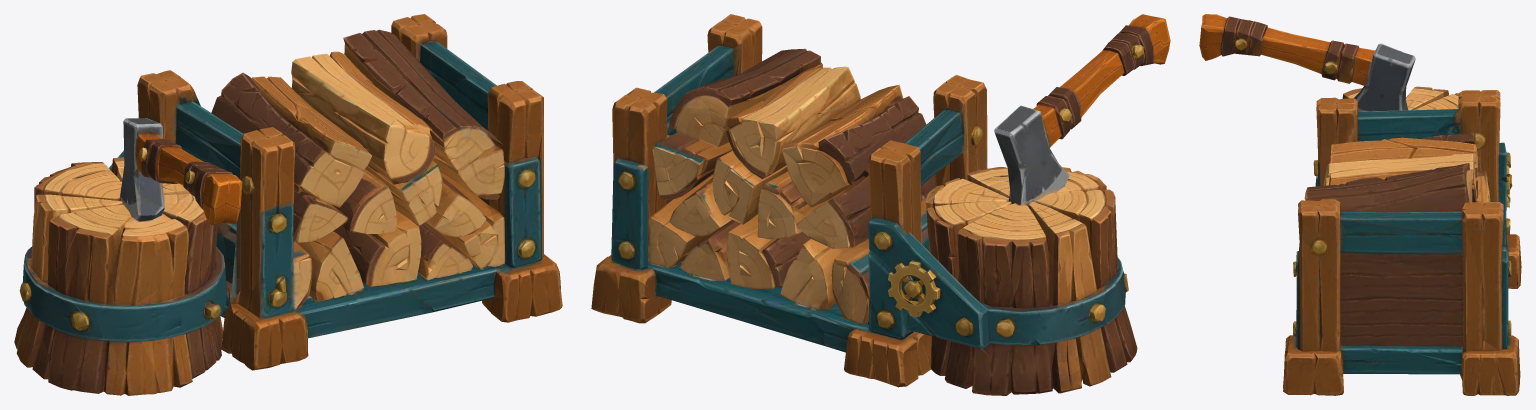
Rendered from shelter_woodpile.glb.
The picture shows the model from 3 angles, left to right: view 1: azimuth 30°, elevation 25°; view 2: azimuth 150°, elevation 25°; view 3: azimuth 270°, elevation 25°; orthographic projection. The views are drawn at different scales.
Visible parts, largest first — view 1: output_unwrapped; view 2: output_unwrapped; view 3: output_unwrapped.
Boxes of the visible parts, x1,y1,x2,y2 form: output_unwrapped: [14, 14, 562, 395]; output_unwrapped: [591, 14, 1170, 395]; output_unwrapped: [1199, 14, 1521, 395].
Bounding box in the file's own units: 1.9 × 1.01 × 1.34.
1 material, 1 textured.
